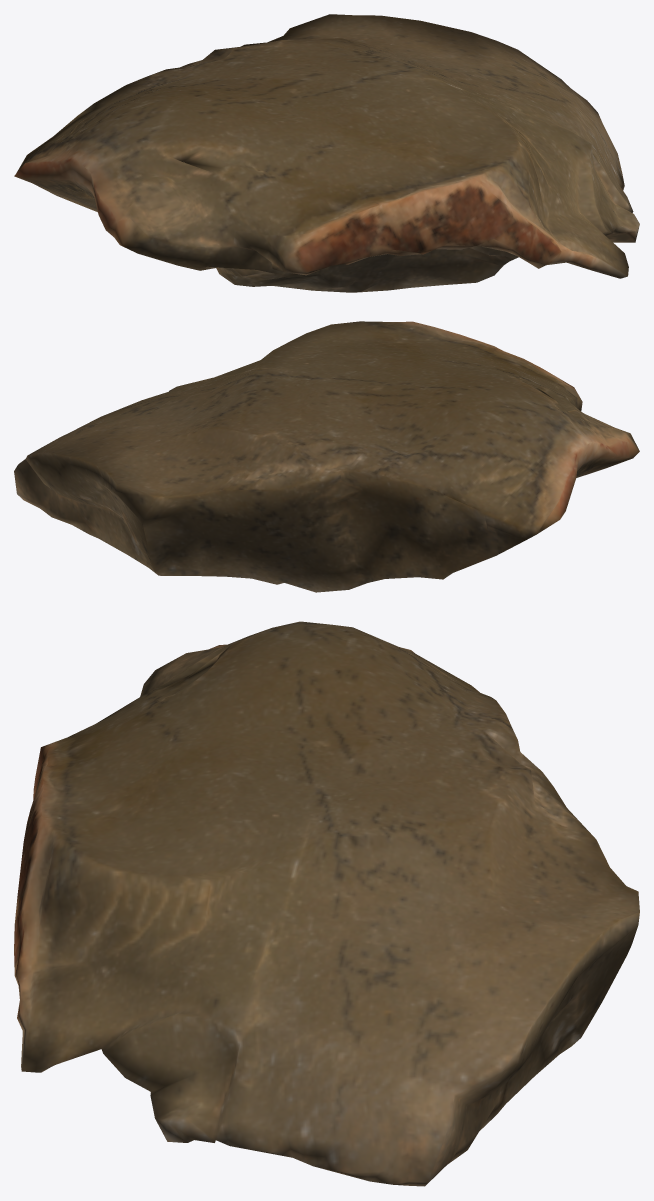
Rendered from aggregate-d.fbx.
The picture shows the model from 3 angles, top to bottom: view 1: azimuth 30°, elevation 25°; view 2: azimuth 150°, elevation 25°; view 3: azimuth 270°, elevation 25°; orthographic projection. The views are drawn at different scales.
Parts seen in each view (by area): view 1: aggregate-d; view 2: aggregate-d; view 3: aggregate-d.
Boxes of the visible parts, x1,y1,x2,y2 form: aggregate-d: (14, 14, 639, 292); aggregate-d: (14, 321, 639, 592); aggregate-d: (14, 621, 639, 1186).
Size of the model in its own units: 11.45 by 3.68 by 8.21.
Materials: 1 (1 with a texture image).
